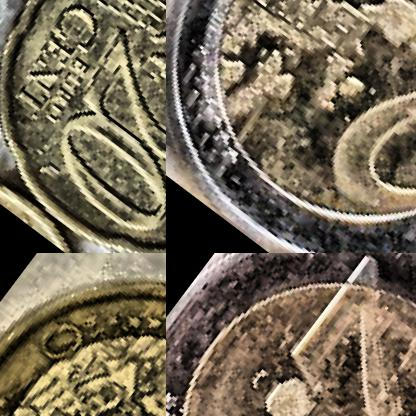coin: (166, 0, 415, 252), (0, 0, 165, 252), (166, 253, 415, 415), (0, 253, 165, 415)
